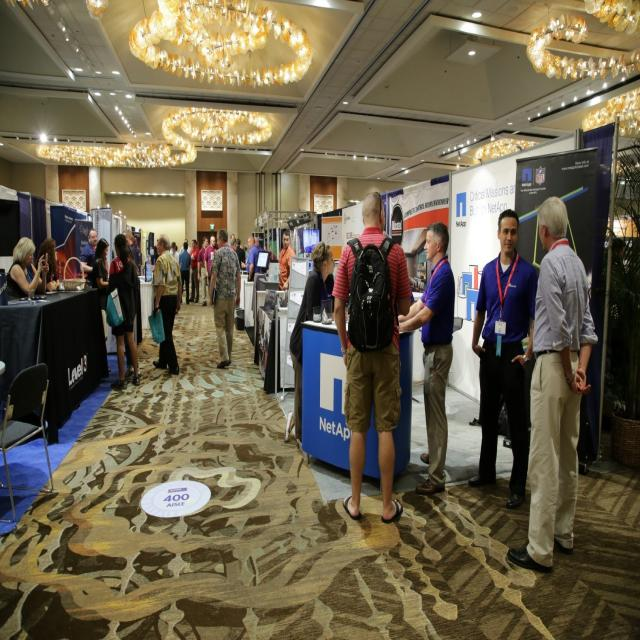body: (501, 192, 602, 576), (329, 192, 414, 524), (466, 206, 539, 512), (397, 220, 456, 496), (284, 240, 337, 446), (103, 232, 141, 392), (145, 233, 184, 376), (208, 227, 242, 371), (122, 238, 144, 382), (91, 237, 112, 373), (5, 237, 50, 298), (33, 235, 61, 294), (278, 230, 296, 290), (177, 241, 192, 306), (197, 236, 210, 307), (79, 228, 99, 274), (203, 235, 218, 290), (188, 238, 200, 304), (122, 229, 139, 268), (246, 236, 258, 282), (254, 236, 276, 260), (235, 238, 246, 272), (132, 231, 140, 263), (179, 239, 192, 258), (169, 241, 179, 264), (229, 233, 237, 252), (240, 244, 248, 262), (156, 238, 158, 254)
